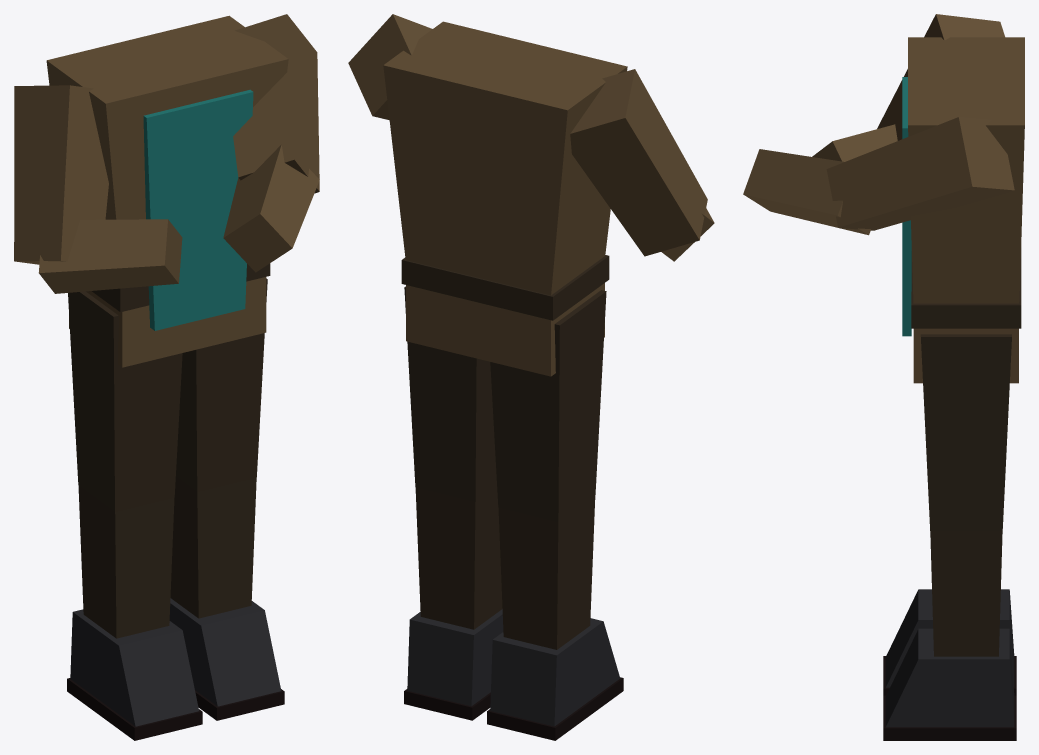
File: gear_body_militia_tabard.glb
The picture shows the model from 3 angles, left to right: view 1: azimuth 30°, elevation 25°; view 2: azimuth 150°, elevation 25°; view 3: azimuth 270°, elevation 25°; orthographic projection. The views are drawn at different scales.
Parts seen in each view (by area): view 1: torso, leg_r_lower, leg_l_lower, leg_r, arm_r, leg_l, arm_l, arm_r_lower, arm_l_lower; view 2: torso, leg_r_lower, leg_l_lower, leg_r, arm_r, leg_l, arm_l; view 3: torso, leg_l_lower, leg_l, arm_l, arm_l_lower, leg_r_lower, arm_r, arm_r_lower.
Part boxes in pixels (left/top/right/bottom): torso: left=46, top=15, right=288, bottom=367; leg_r_lower: left=67, top=485, right=202, bottom=740; leg_l_lower: left=169, top=476, right=284, bottom=720; leg_r: left=68, top=291, right=182, bottom=511; arm_r: left=14, top=85, right=108, bottom=264; leg_l: left=176, top=278, right=267, bottom=491; arm_l: left=233, top=14, right=319, bottom=193; arm_r_lower: left=38, top=219, right=182, bottom=293; arm_l_lower: left=223, top=144, right=319, bottom=272; torso: left=383, top=21, right=627, bottom=376; leg_r_lower: left=487, top=495, right=623, bottom=740; leg_l_lower: left=404, top=486, right=503, bottom=720; leg_r: left=490, top=290, right=606, bottom=521; arm_r: left=570, top=69, right=707, bottom=256; leg_l: left=404, top=286, right=496, bottom=501; arm_l: left=348, top=14, right=432, bottom=120; torso: left=902, top=37, right=1024, bottom=383; leg_l_lower: left=883, top=531, right=1016, bottom=740; leg_l: left=920, top=334, right=1011, bottom=531; arm_l: left=826, top=117, right=1014, bottom=230; arm_l_lower: left=743, top=149, right=870, bottom=235; leg_r_lower: left=883, top=589, right=1016, bottom=695; arm_r: left=877, top=14, right=1004, bottom=140; arm_r_lower: left=812, top=124, right=897, bottom=161.
Bounding box in the file's own units: 0.7929 × 1.52 × 0.6024.
